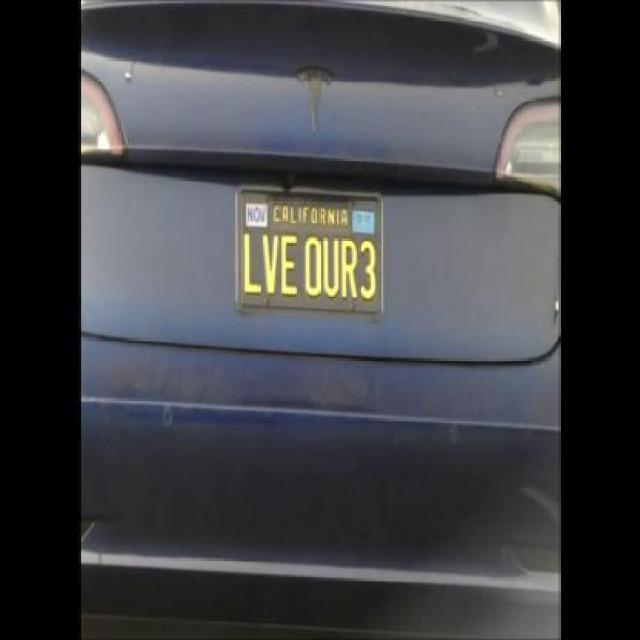licenseplate: (236, 182, 382, 313)
